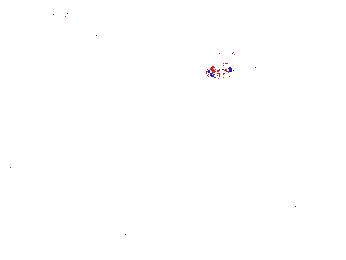X-ray fish: (270, 178, 324, 209), (188, 26, 233, 58), (319, 152, 346, 187)
red belly glassfish: (204, 62, 251, 82), (53, 6, 81, 20)
